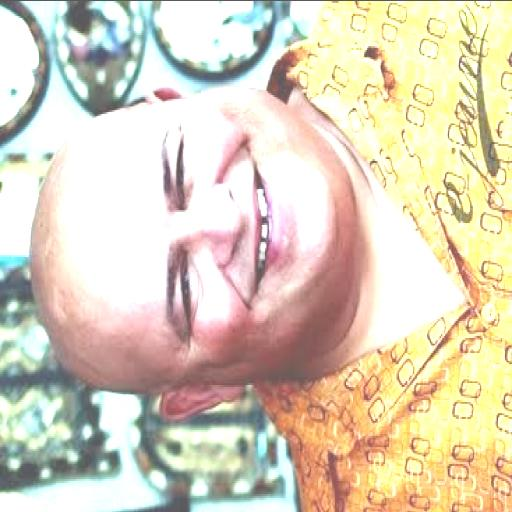sboui: (38, 88, 359, 418)
